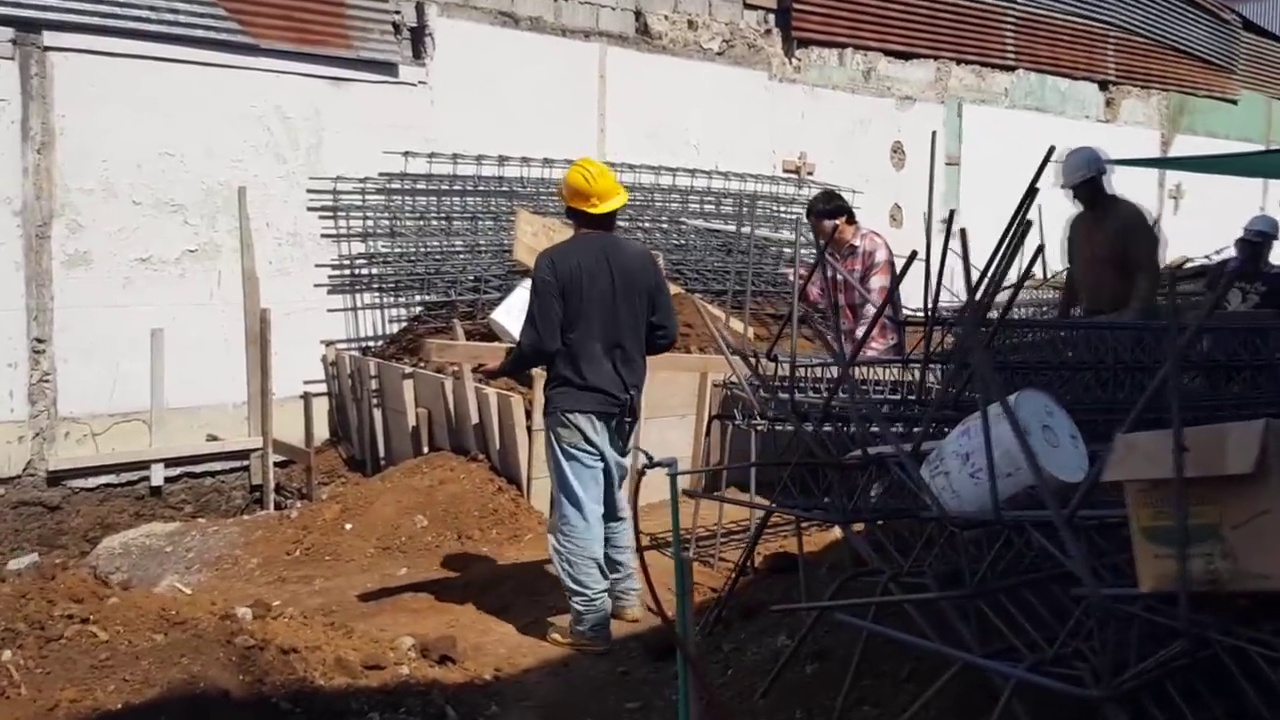helmet: (557, 157, 627, 222), (1058, 135, 1110, 195), (1228, 221, 1280, 251)
helmet-off: (802, 189, 855, 252)
helmet-on: (547, 152, 630, 255), (1067, 143, 1127, 209), (1232, 216, 1275, 273)
person: (465, 138, 690, 654), (1052, 133, 1158, 325), (798, 189, 898, 351), (1212, 215, 1280, 340)
